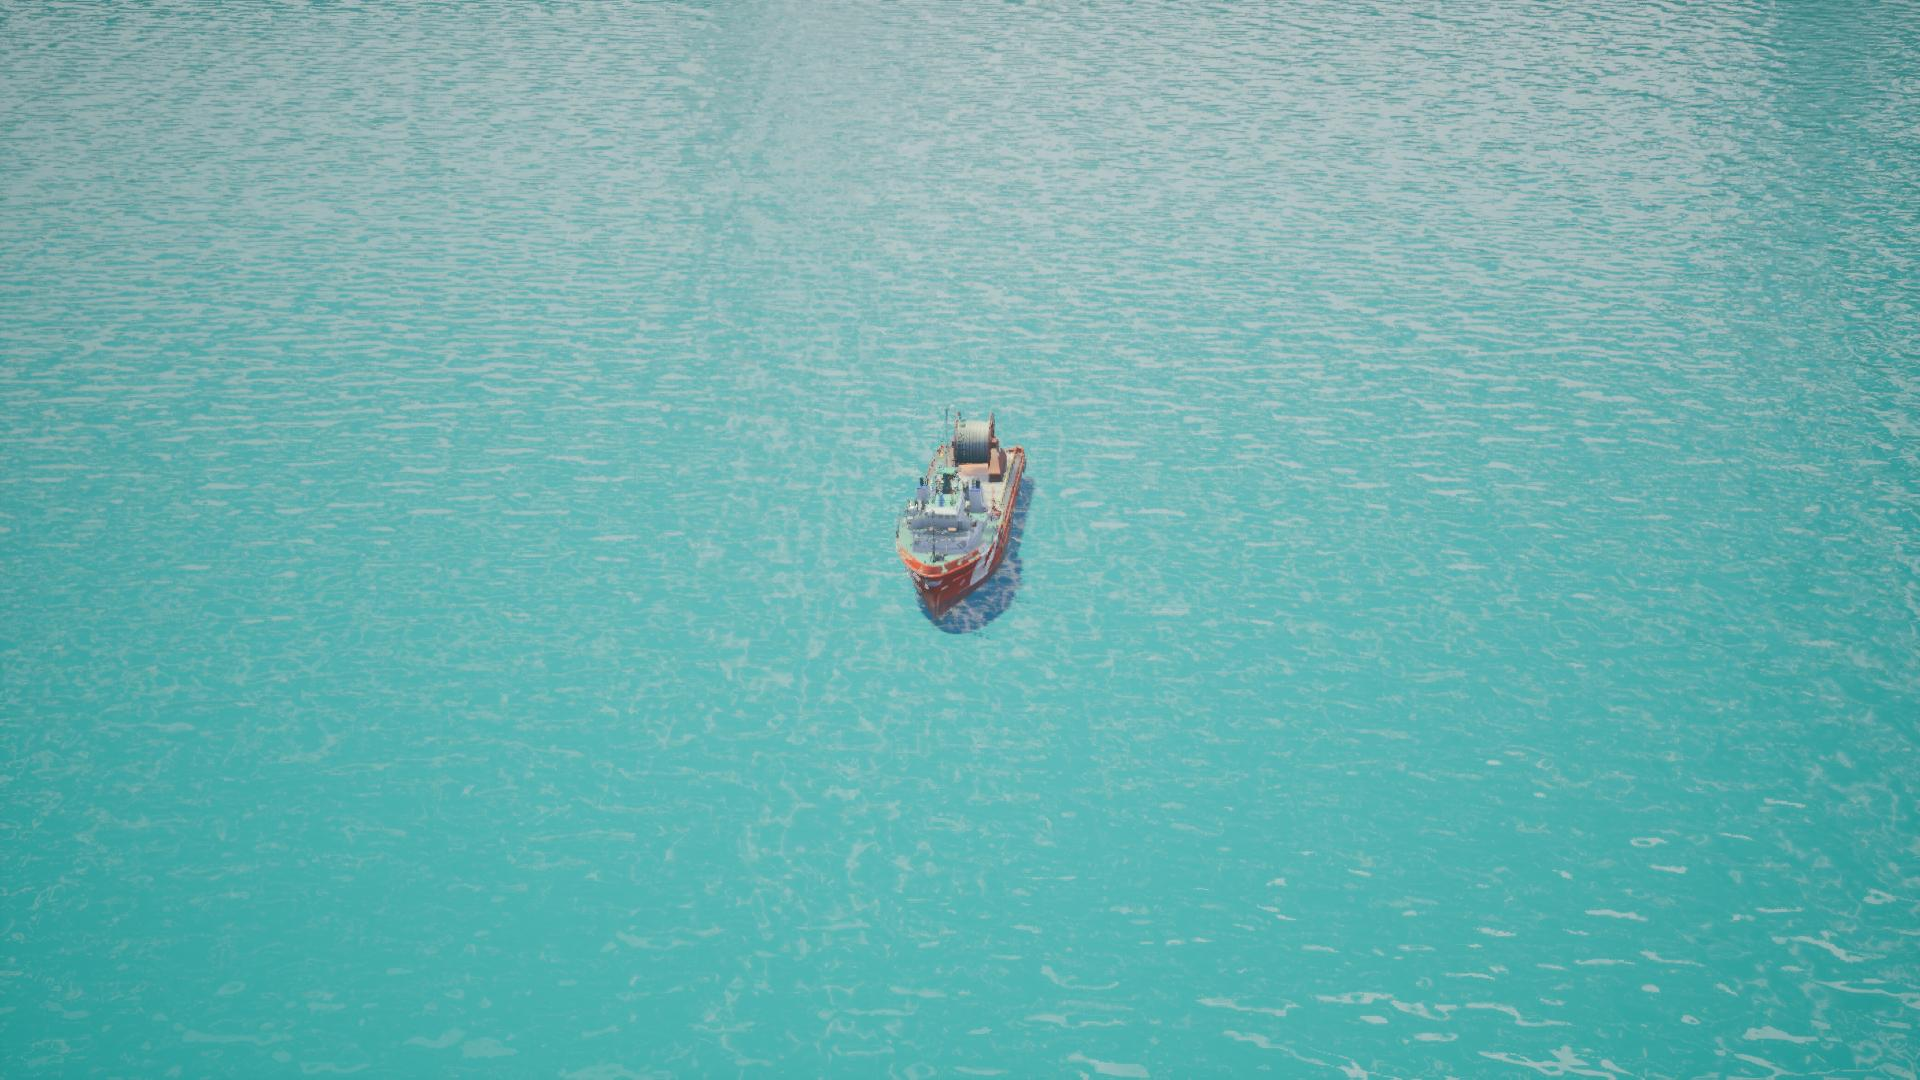Tug Boat: (894, 411, 1025, 637)
